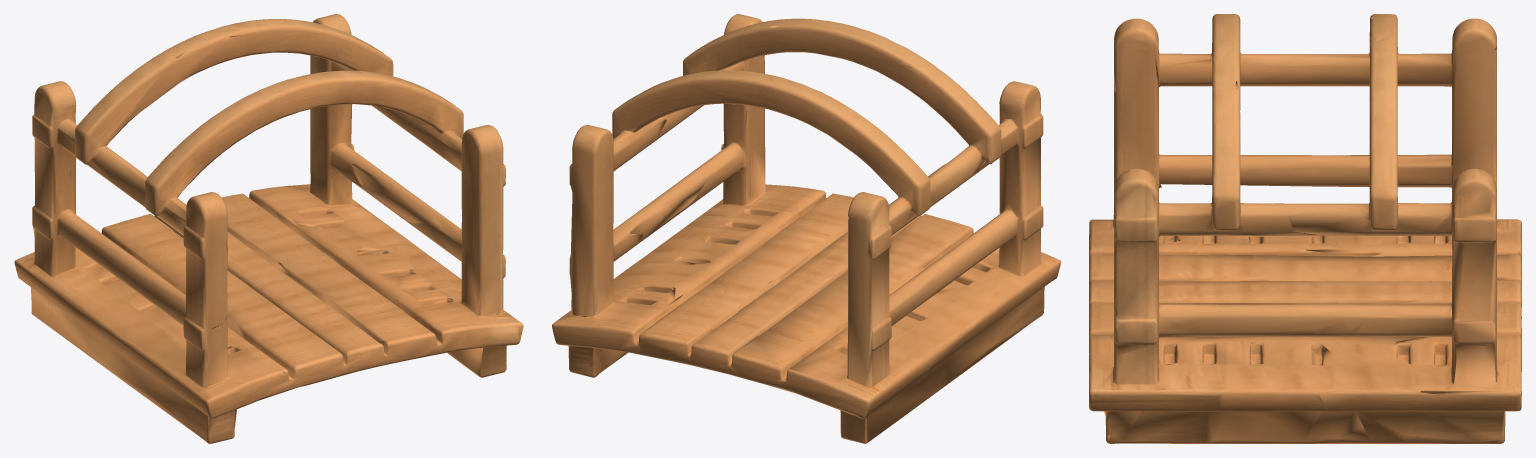
File: wooden_bridge.glb
The picture shows the model from 3 angles, left to right: view 1: azimuth 30°, elevation 25°; view 2: azimuth 150°, elevation 25°; view 3: azimuth 270°, elevation 25°; orthographic projection. The views are drawn at different scales.
Bounding box in the file's own units: 1.81 × 1.58 × 1.91.
Materials: 1 (1 with a texture image).
